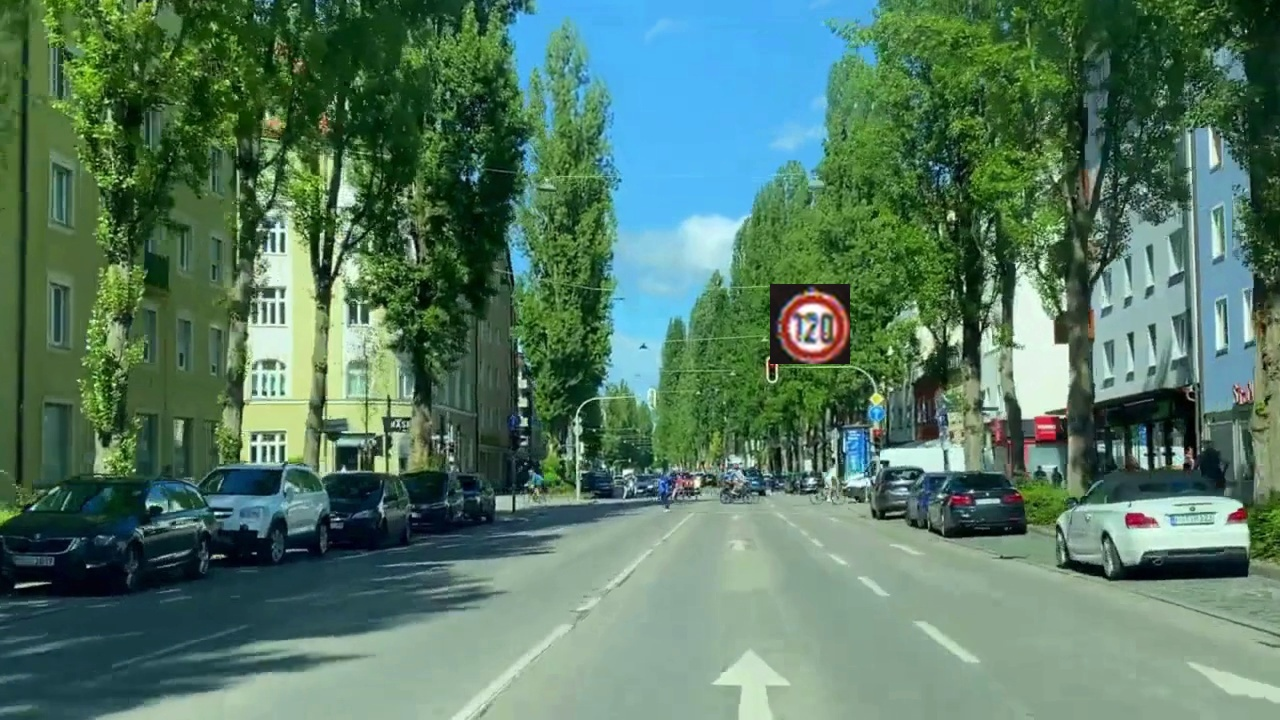Speed 120: (770, 284, 850, 364)
